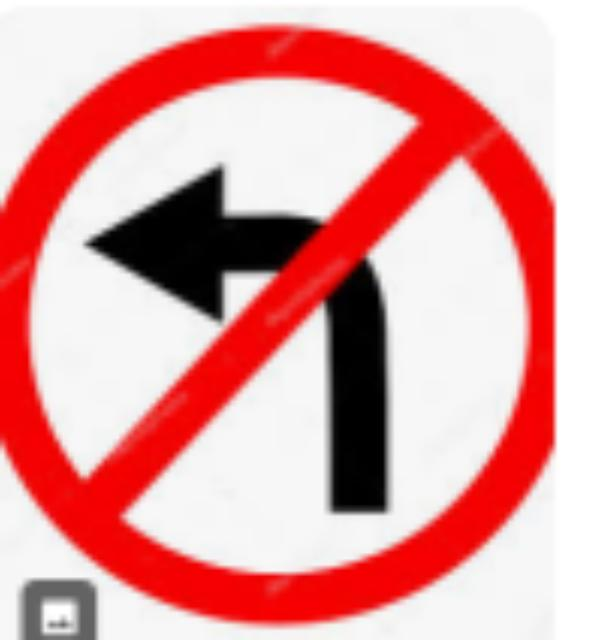not_turn_left: (0, 12, 568, 632)
